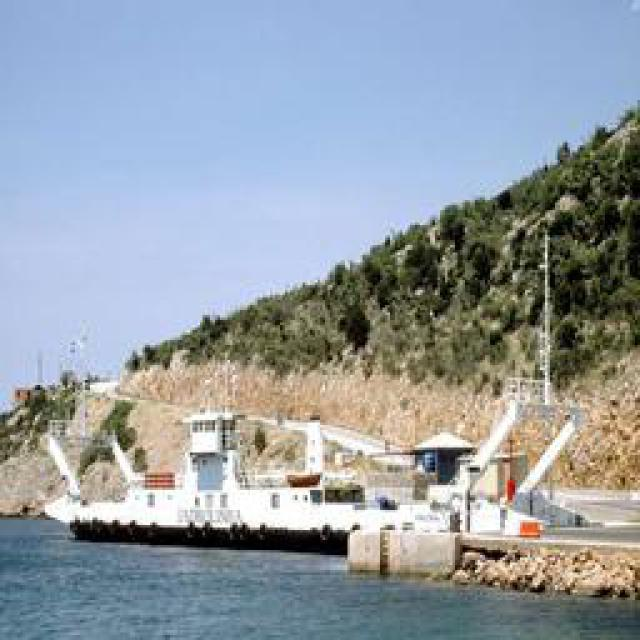Ship: (52, 412, 462, 552)
